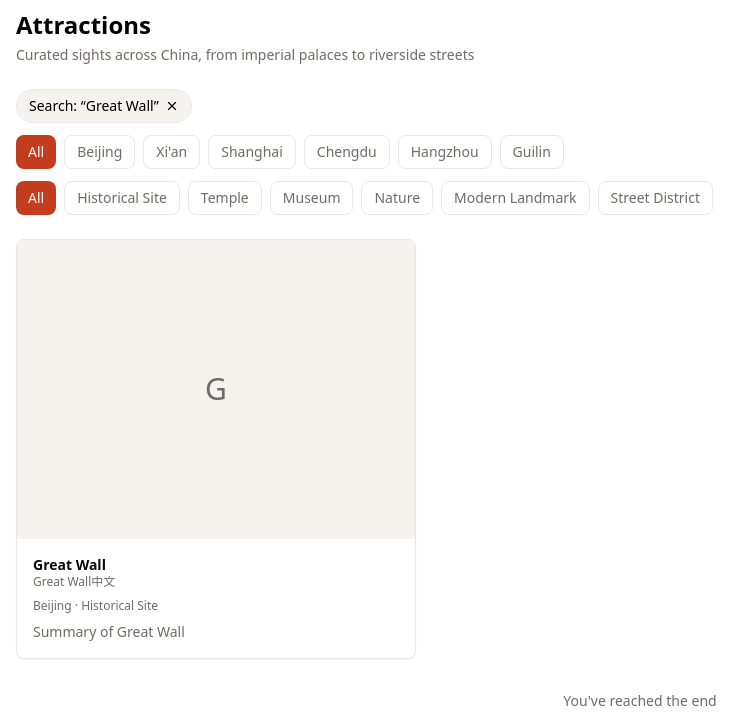
Test: AttractionsPage keyword support › clears the keyword, replaces the URL with /attractions and refetches without q
This screenshot has width=733, height=723.
Expected: the heading "Great Wall" is shown, [33, 554, 115, 574]
Click the button with aria-label "Clear search: Great Wall": (104, 106) [16, 89, 192, 123]
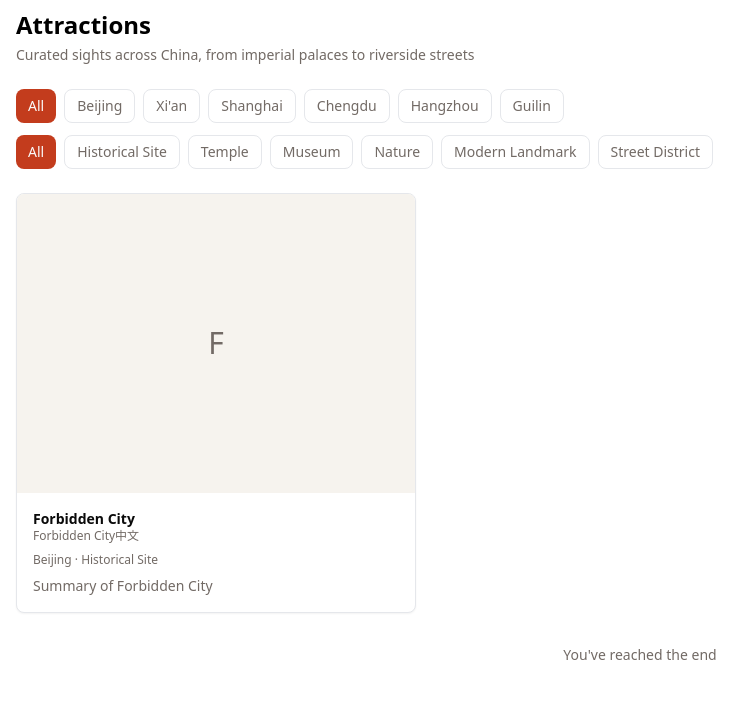
Expected: the heading "Forbidden City" is shown, [33, 508, 139, 528]
